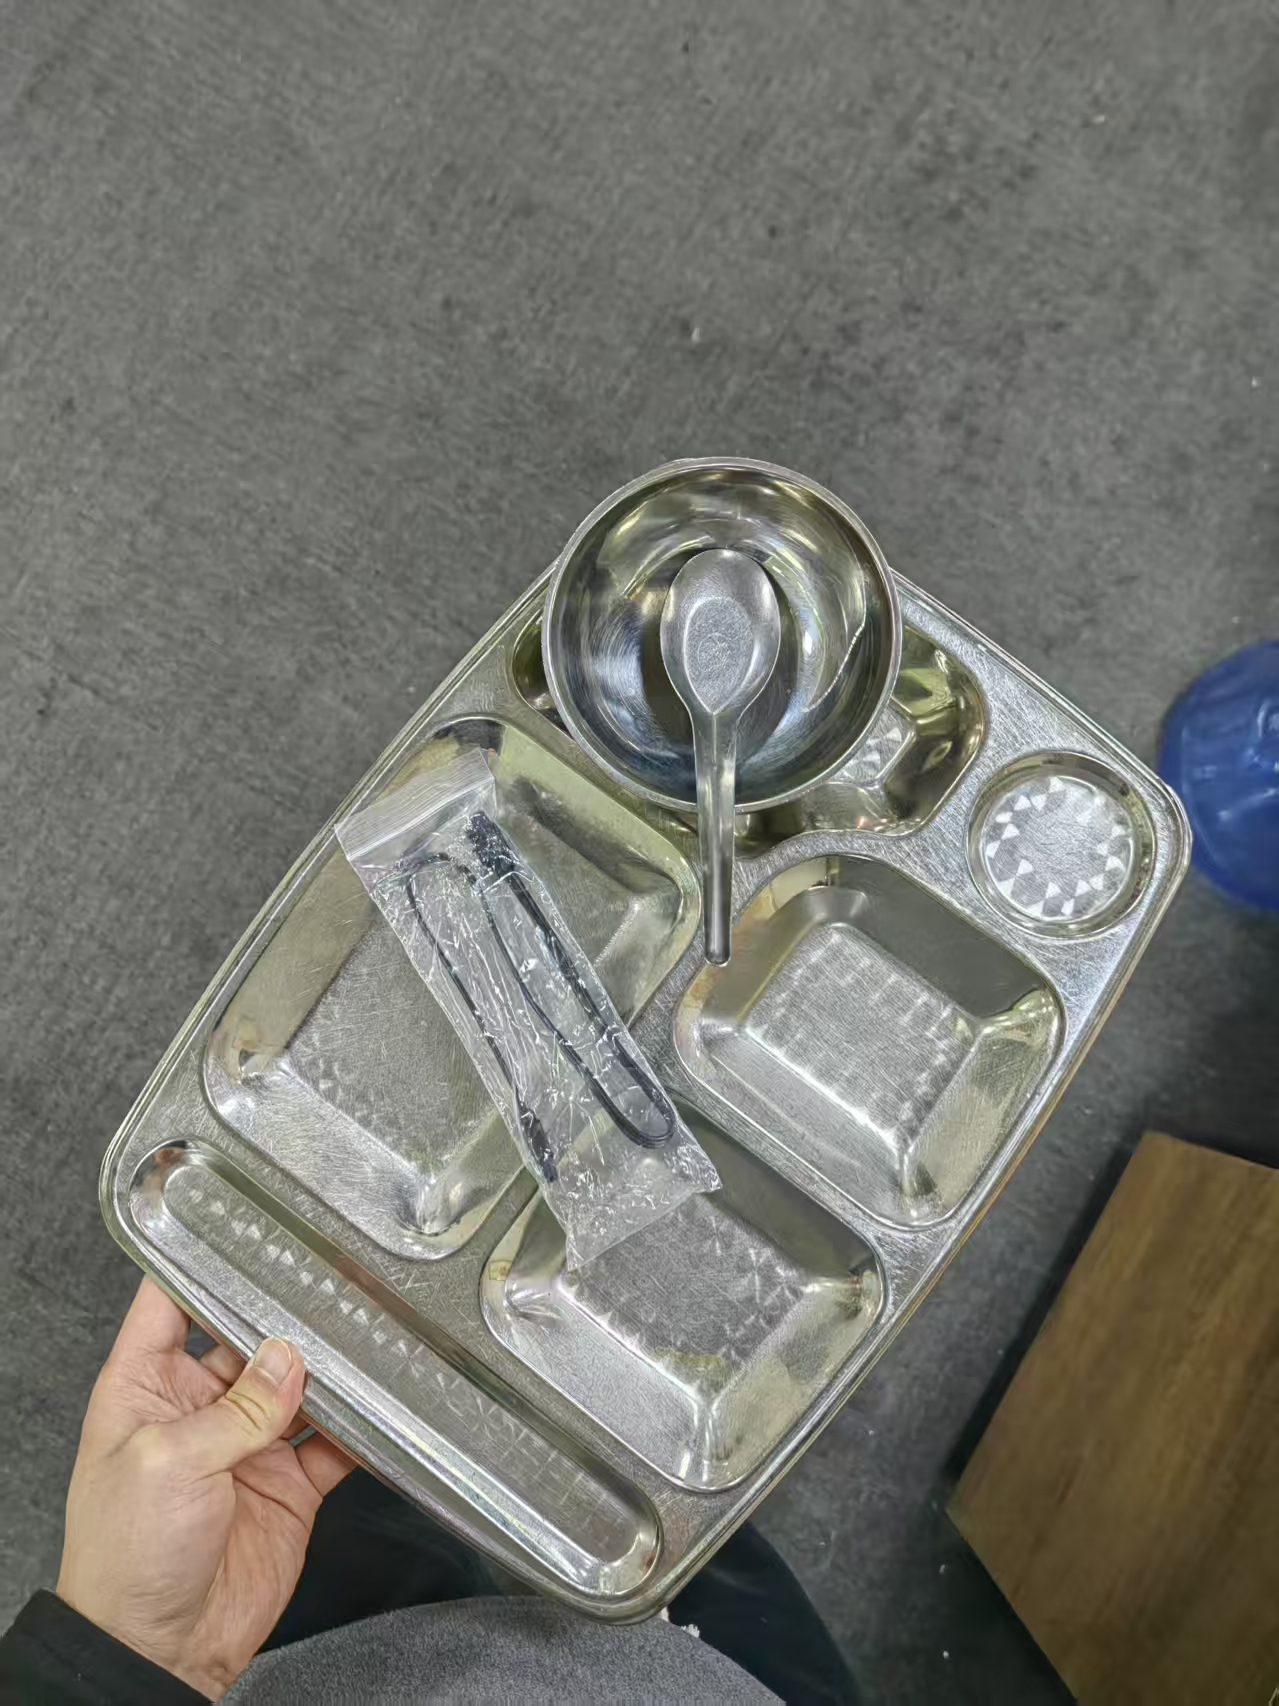mild: (334, 744, 726, 1280)
plate: (93, 454, 1193, 1613)
